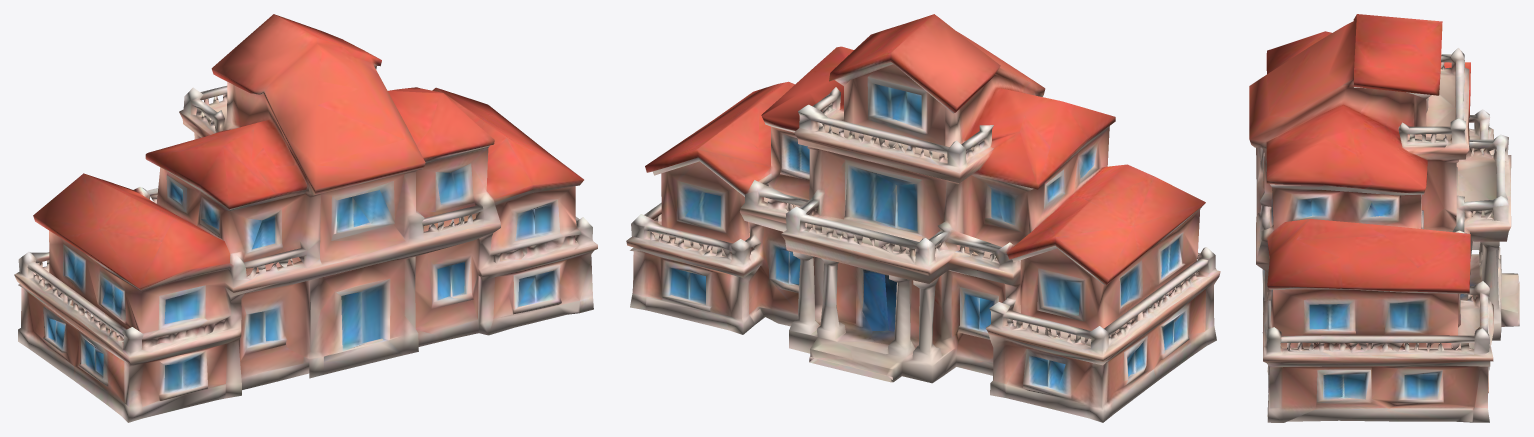
File: casa-n09-a75c5780.glb
3 renders of one model, left to right at view 1: azimuth 30°, elevation 25°; view 2: azimuth 150°, elevation 25°; view 3: azimuth 270°, elevation 25°, orthographic. The views are drawn at different scales.
Parts seen in each view (by area): view 1: casa_n09; view 2: casa_n09; view 3: casa_n09.
Boxes of the visible parts, bbox=[...] form: casa_n09: bbox=[14, 14, 597, 422]; casa_n09: bbox=[626, 14, 1220, 422]; casa_n09: bbox=[1249, 14, 1519, 422].
Size of the model in its own units: 18.4 by 11.1 by 9.21.
Materials: 1 (1 with a texture image).
